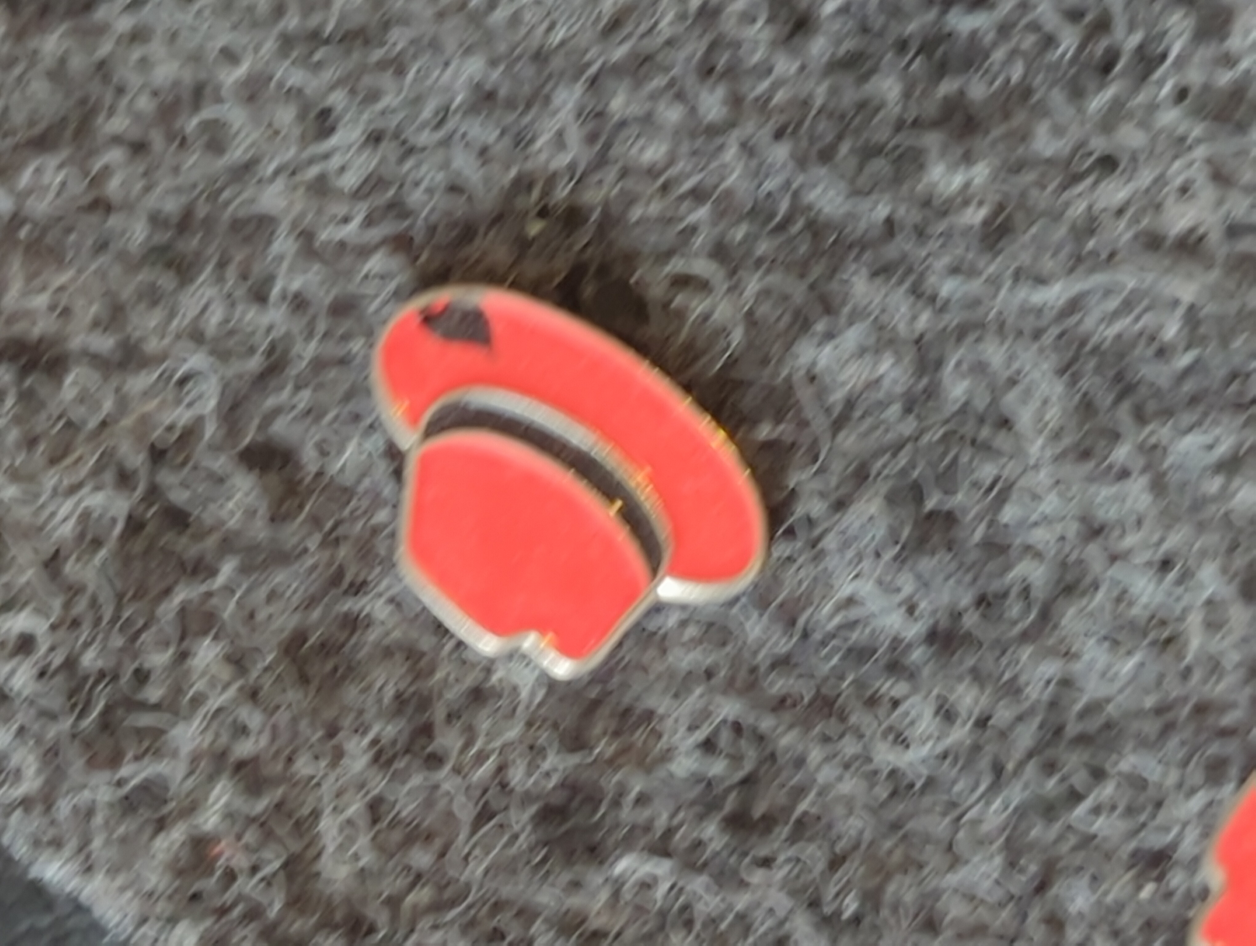Red-Hat: (255, 173, 913, 750)
Scratch: (372, 258, 515, 365)
